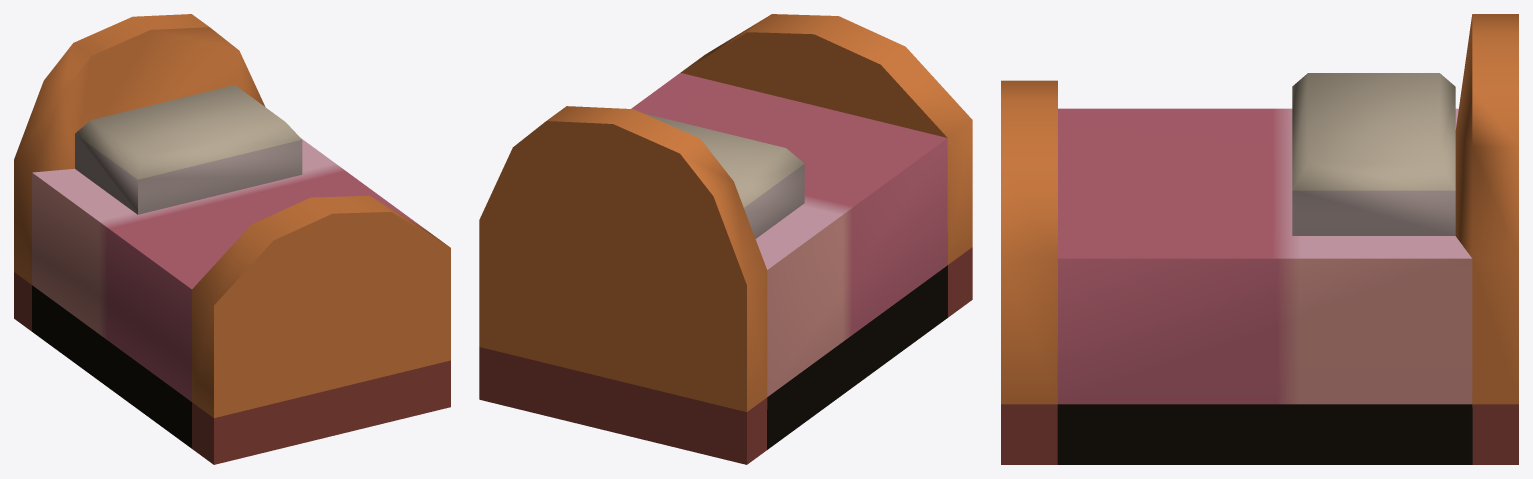
The model's file is bed.fbx.
3 views of the same model, side by side, from view 1: azimuth 30°, elevation 25°; view 2: azimuth 150°, elevation 25°; view 3: azimuth 270°, elevation 25° (orthographic). The views are drawn at different scales.
Visible parts, largest first — view 1: bed; view 2: bed; view 3: bed.
Boxes of the visible parts, x1,y1,x2,y2 form: bed: [14, 14, 450, 464]; bed: [479, 14, 972, 464]; bed: [1001, 14, 1518, 464].
Size of the model in its own units: 100 by 110 by 146.
Materials: 1 (1 with a texture image).
